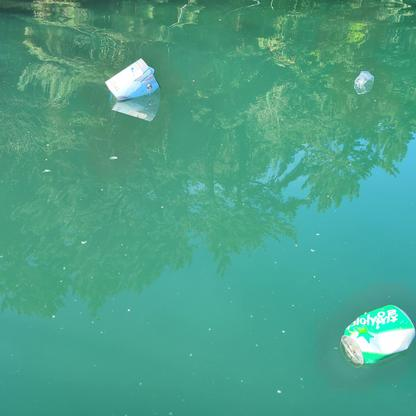can: (341, 305, 416, 366)
